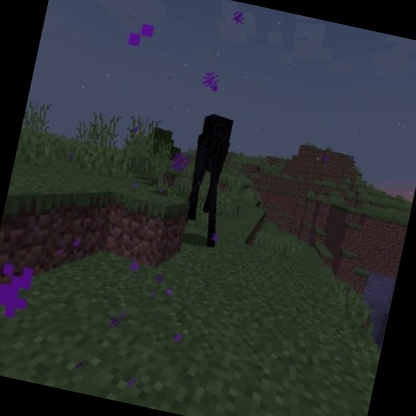enderman: (173, 110, 245, 251)
